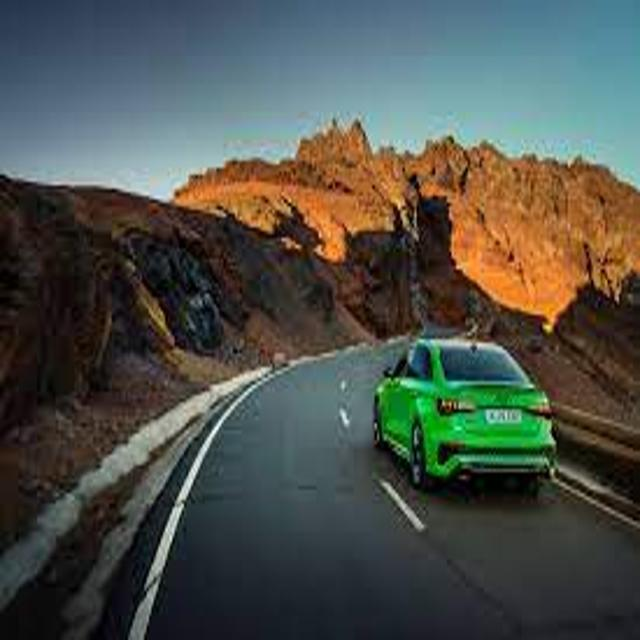car: (373, 338, 555, 492)
